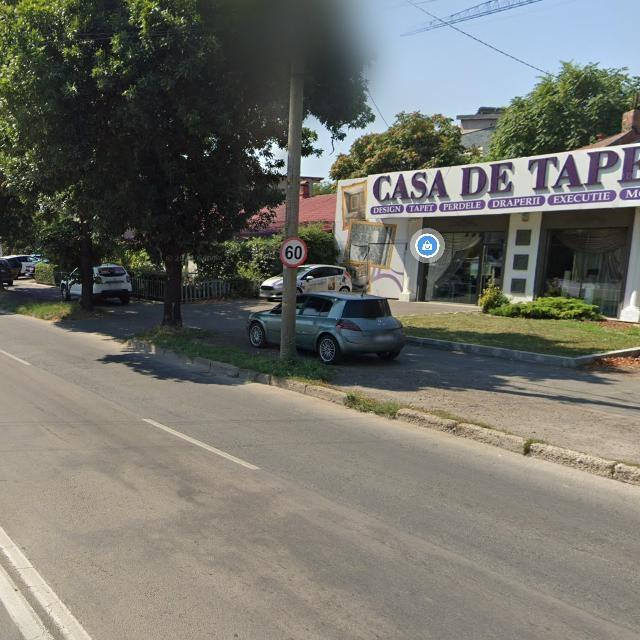forb_speed_over_60: (280, 237, 308, 268)
